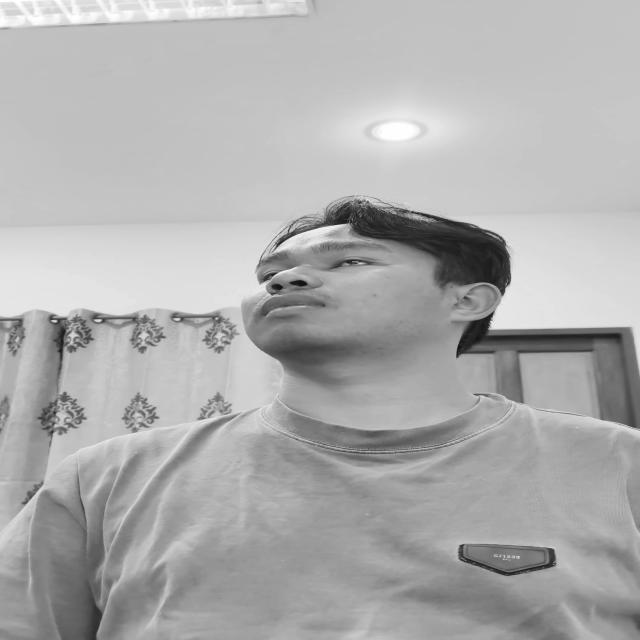ear: (450, 283, 501, 322)
